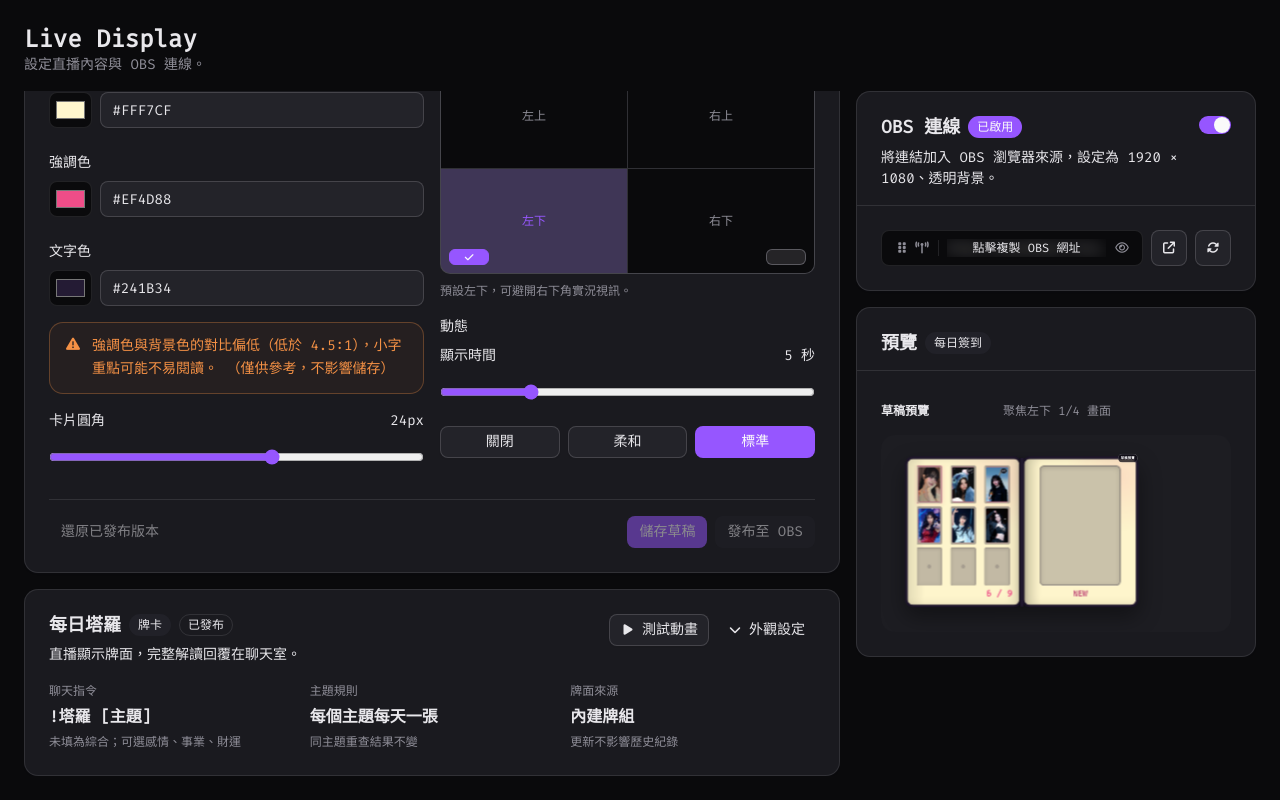
Scenario: CommunityOverlaySettings › saves a complete draft before allowing publish
(page scrolled)
Set the slider named "卡片圓角" to "12" at (165, 456), box [49,438,424,474]
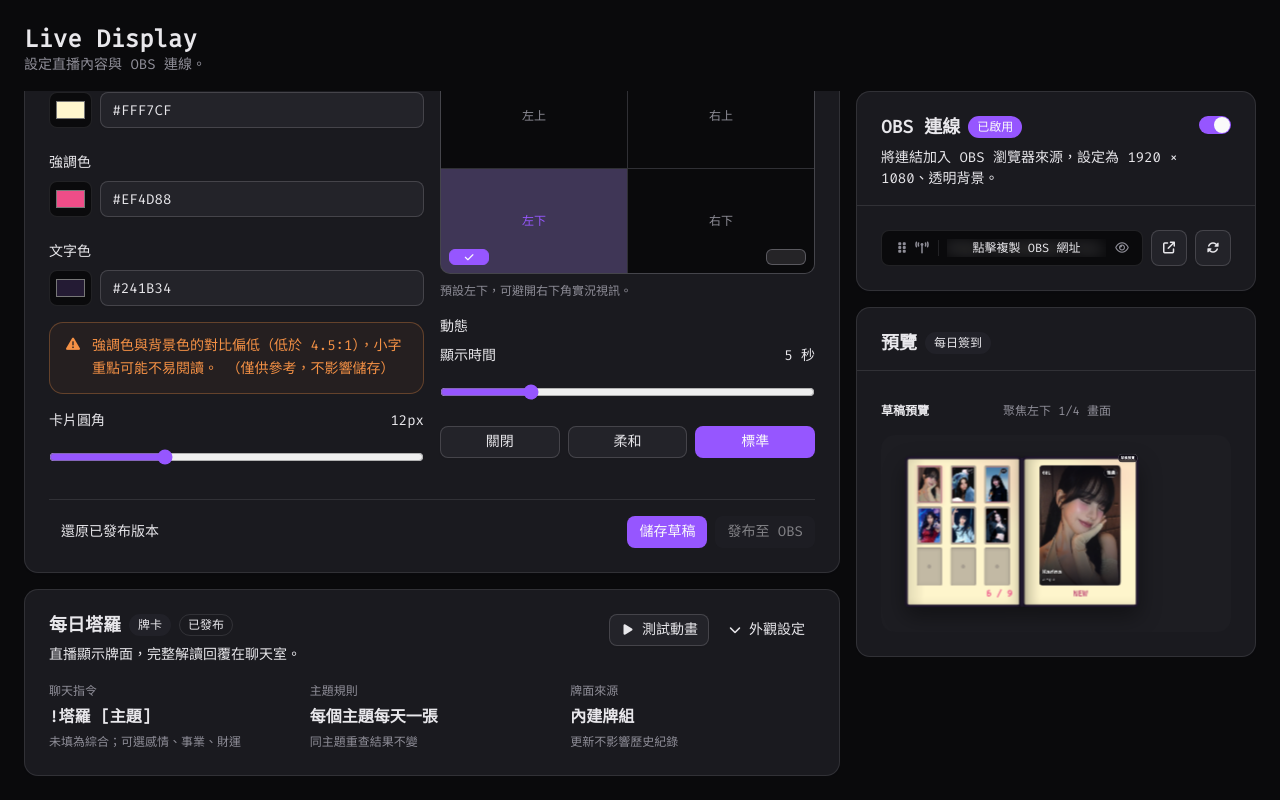
Click the button "儲存草稿" at (667, 532), box [627,516,707,548]
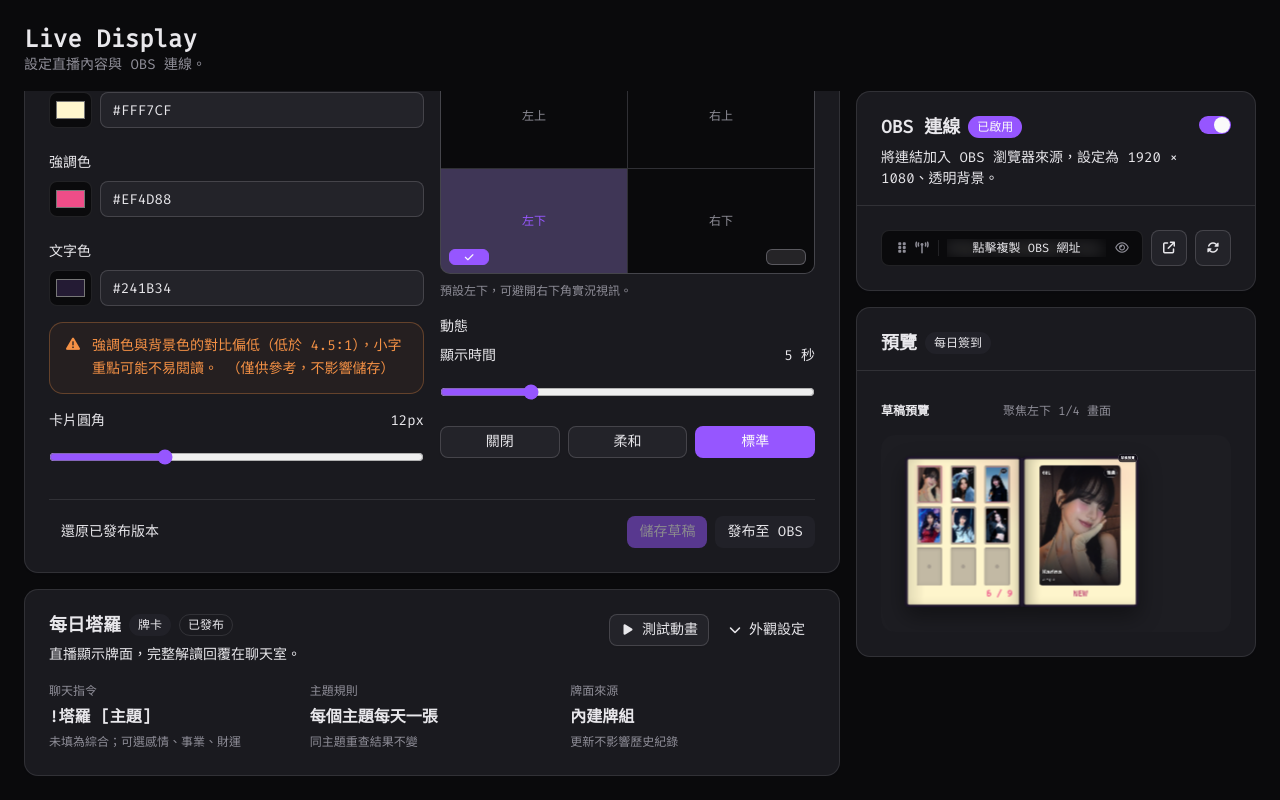
Expected: the button "發布至 OBS" is enabled, [715,516,815,548]
